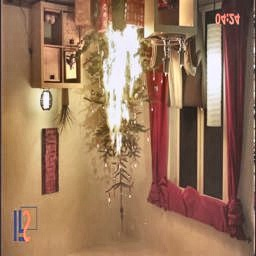fire: (91, 16, 155, 161)
